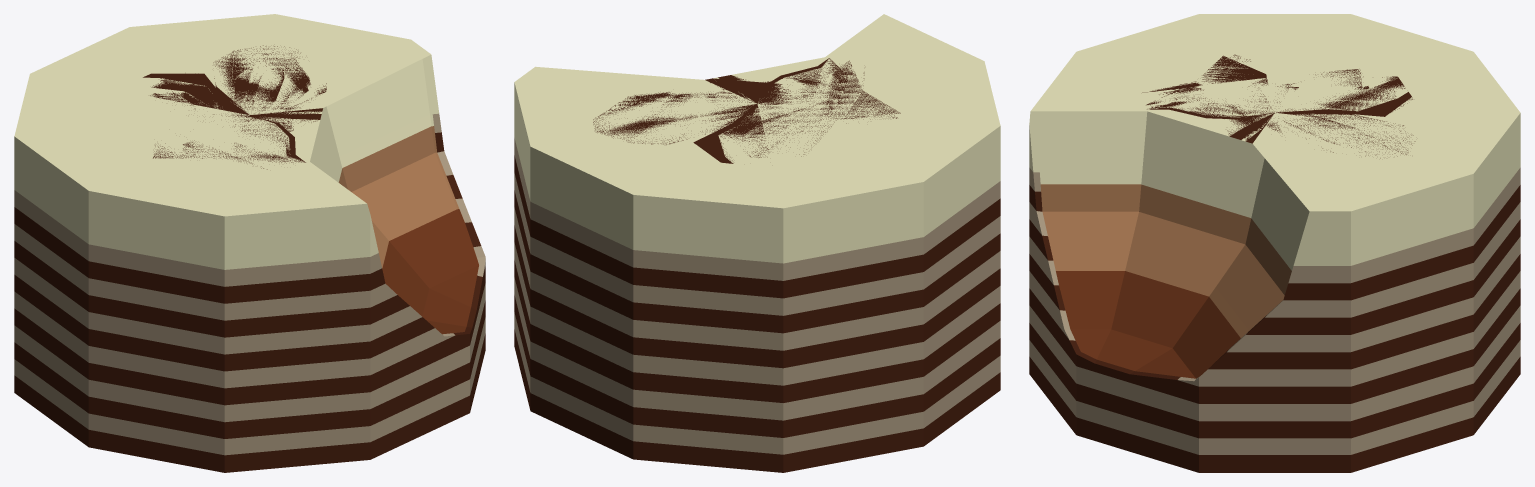
The model's file is TripleChocolateState1.fbx.
The picture shows the model from 3 angles, left to right: view 1: azimuth 30°, elevation 25°; view 2: azimuth 150°, elevation 25°; view 3: azimuth 270°, elevation 25°; orthographic projection. The views are drawn at different scales.
Visible parts, largest first — view 1: TripleChocolateState1; view 2: TripleChocolateState1; view 3: TripleChocolateState1.
Boxes of the visible parts, <box> form: TripleChocolateState1: <box>14,14,485,472</box>; TripleChocolateState1: <box>514,14,1000,472</box>; TripleChocolateState1: <box>1029,14,1520,472</box>.
Size of the model in its own units: 76.08 by 47 by 80.
